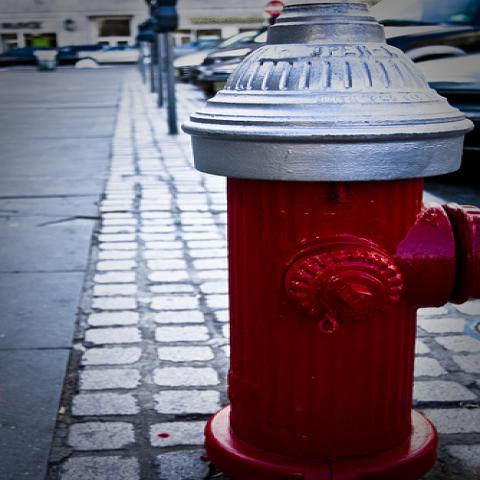car: (414, 52, 480, 189), (172, 31, 258, 81), (200, 29, 268, 79), (1, 44, 104, 66), (75, 44, 140, 64), (172, 40, 226, 58), (195, 70, 218, 81)
